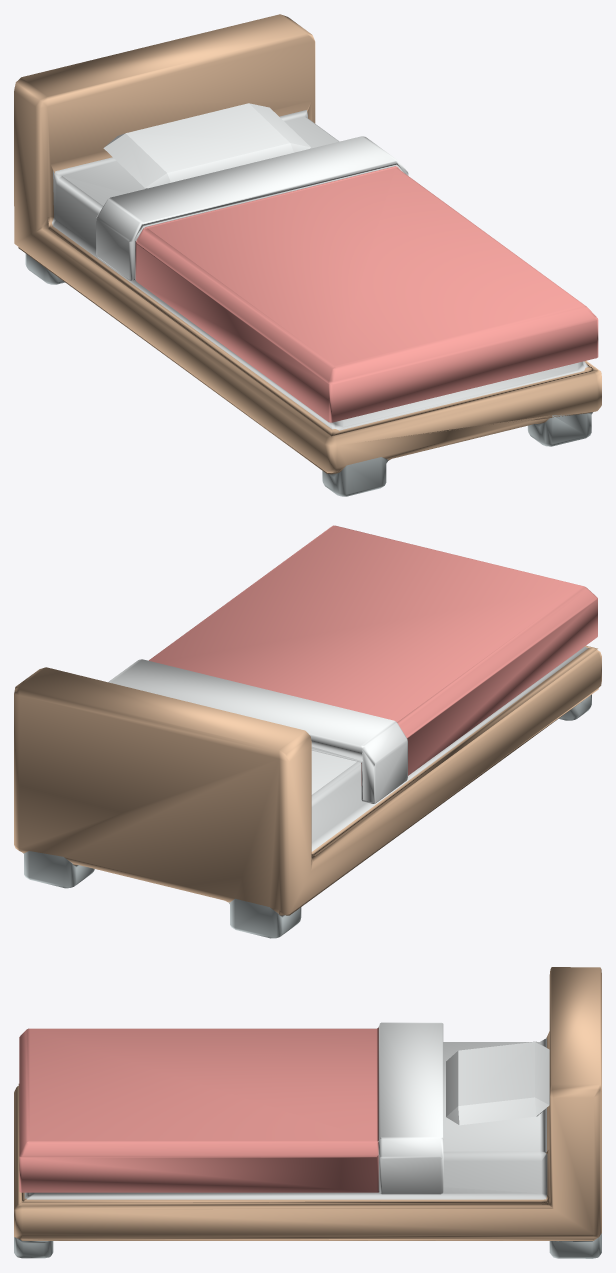
File: bed.glb
3 views of the same model, one above another, from view 1: azimuth 30°, elevation 25°; view 2: azimuth 150°, elevation 25°; view 3: azimuth 270°, elevation 25° (orthographic). The views are drawn at different scales.
Visible parts, largest first — view 1: bed_cover, bed_bedSingle(Clone), bed_pillow; view 2: bed_bedSingle(Clone), bed_cover; view 3: bed_cover, bed_bedSingle(Clone), bed_pillow.
Part boxes in pixels (left/top/right/bottom): bed_cover: left=96, top=136, right=598, bottom=422; bed_bedSingle(Clone): left=14, top=14, right=601, bottom=496; bed_pillow: left=103, top=103, right=310, bottom=188; bed_bedSingle(Clone): left=14, top=645, right=601, bottom=938; bed_cover: left=108, top=525, right=597, bottom=803; bed_cover: left=19, top=1022, right=443, bottom=1194; bed_bedSingle(Clone): left=14, top=967, right=601, bottom=1258; bed_pillow: left=446, top=1041, right=549, bottom=1125.
Bounding box in the file's own units: 1.6 × 1.05 × 3.15.
